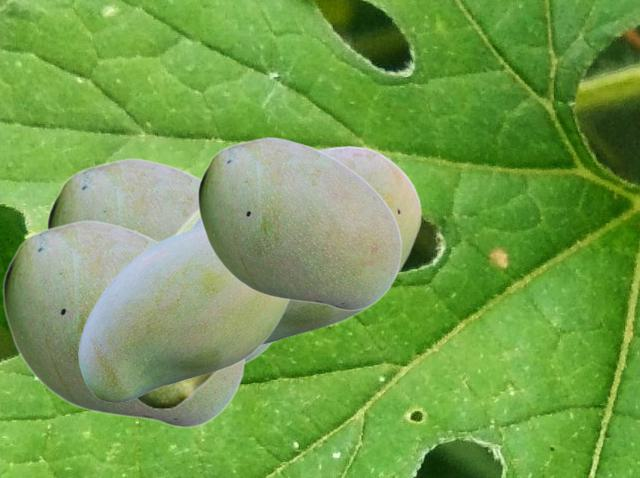green_mango: (2, 219, 245, 427), (188, 146, 421, 347), (46, 157, 271, 363), (78, 225, 289, 401), (197, 136, 401, 310), (134, 206, 219, 408)
